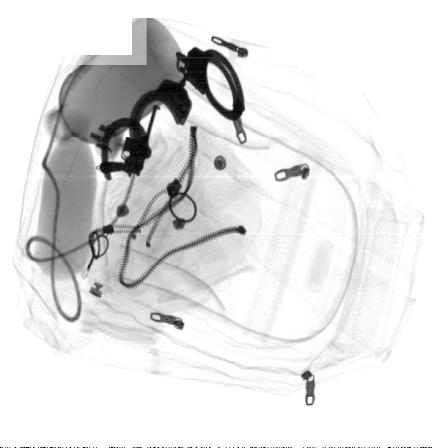Gun: (97, 103, 157, 178)
HandCuffs: (98, 44, 248, 186)
